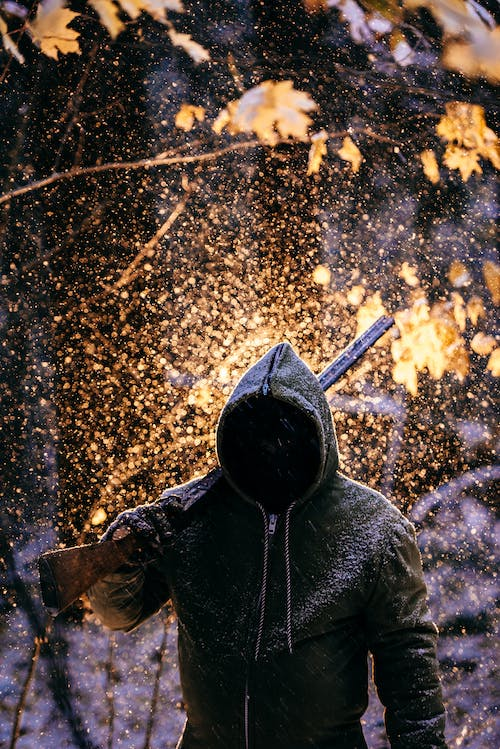gun: (31, 309, 398, 616)
